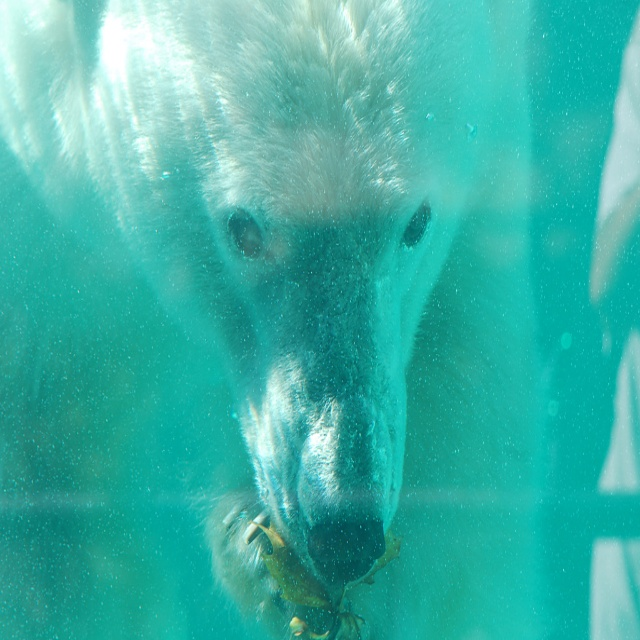Bear: (0, 0, 534, 639)
